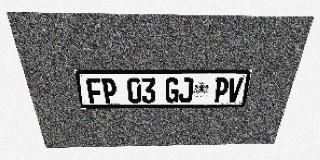0: (127, 78, 142, 103)
3: (141, 78, 155, 103)
F: (86, 78, 103, 104)
G: (165, 78, 179, 103)
J: (179, 78, 194, 103)
P: (213, 78, 230, 102), (101, 78, 117, 103)
V: (226, 78, 244, 102)
